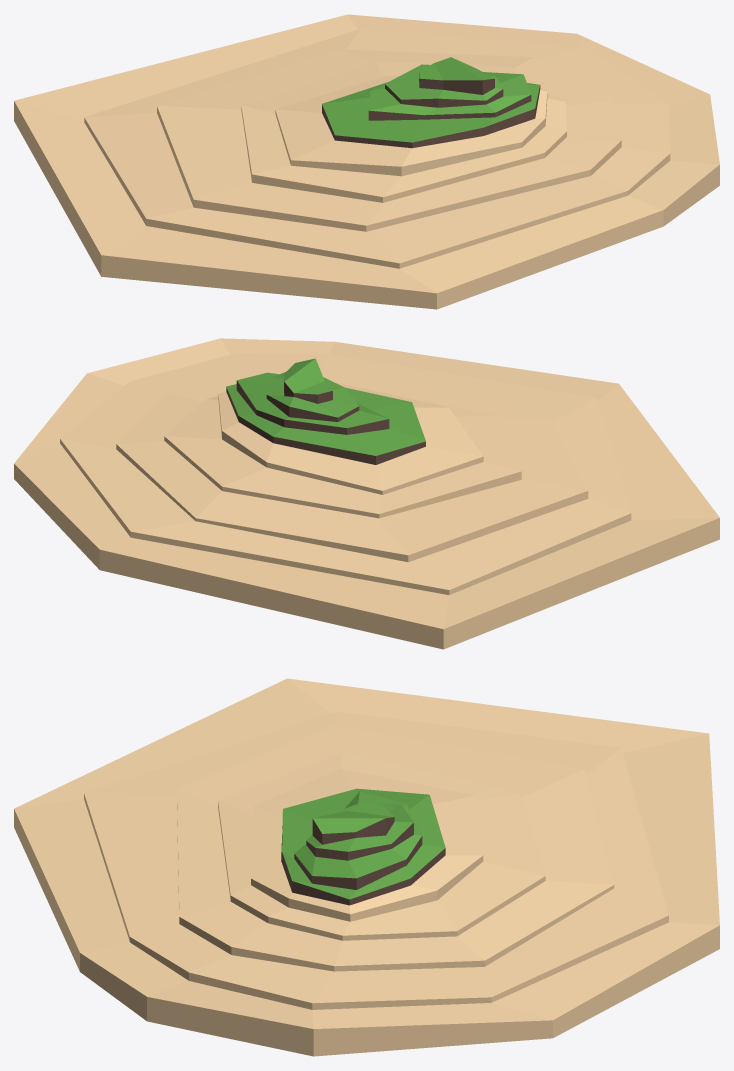
Rendered from is_1_sable.fbx.
3 renders of one model, top to bottom at view 1: azimuth 30°, elevation 25°; view 2: azimuth 150°, elevation 25°; view 3: azimuth 270°, elevation 25°, orthographic. The views are drawn at different scales.
Parts seen in each view (by area): view 1: ile2; view 2: ile2; view 3: ile2.
Boxes of the visible parts, left/top/right/bottom form: ile2: left=14, top=14, right=719, bottom=309; ile2: left=14, top=338, right=719, bottom=649; ile2: left=14, top=678, right=719, bottom=1056.
Bounding box in the file's own units: 1857 × 268 × 1574.
